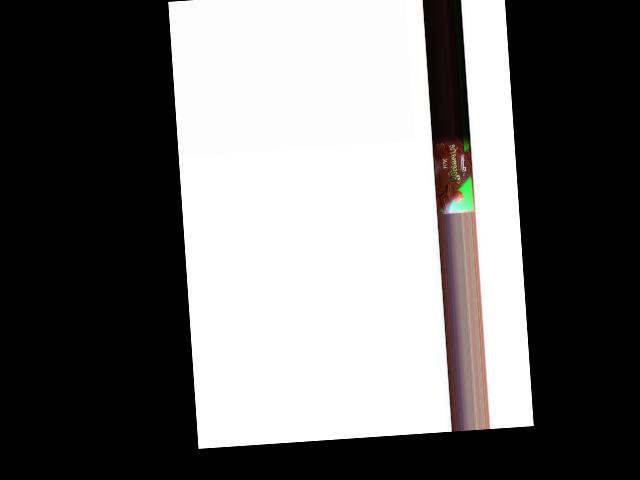chocolate: (432, 134, 473, 213)
